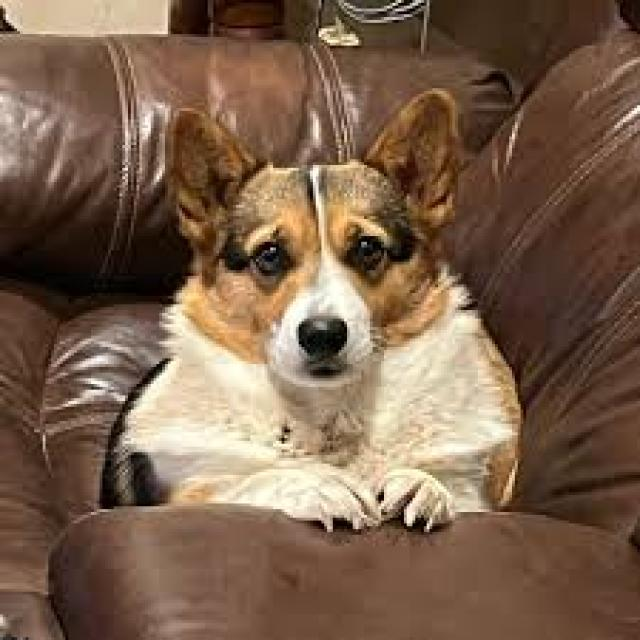CORGI: (132, 105, 531, 570)
